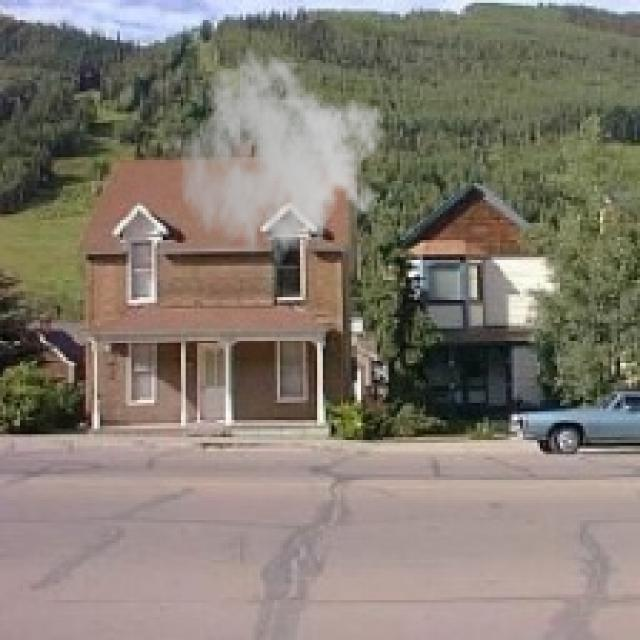Smoke: (177, 46, 386, 280)
